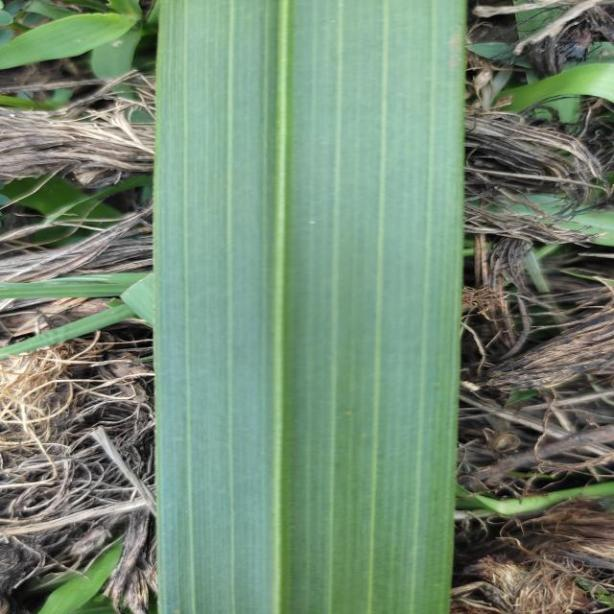Healthy: (152, 0, 465, 614)
